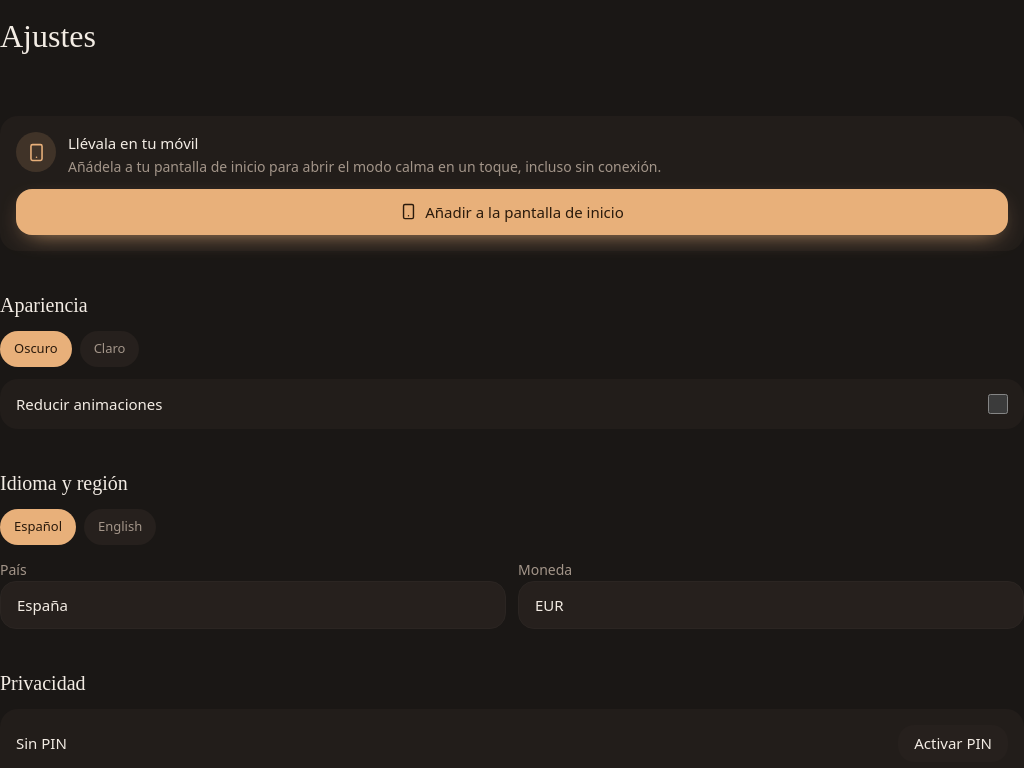
browsers without install support › tells Opera users to open the page in Chrome, Edge or on the phone
Click the button "Añadir a la pantalla de inicio". click: x=512, y=212
box: [16,188,1008,235]
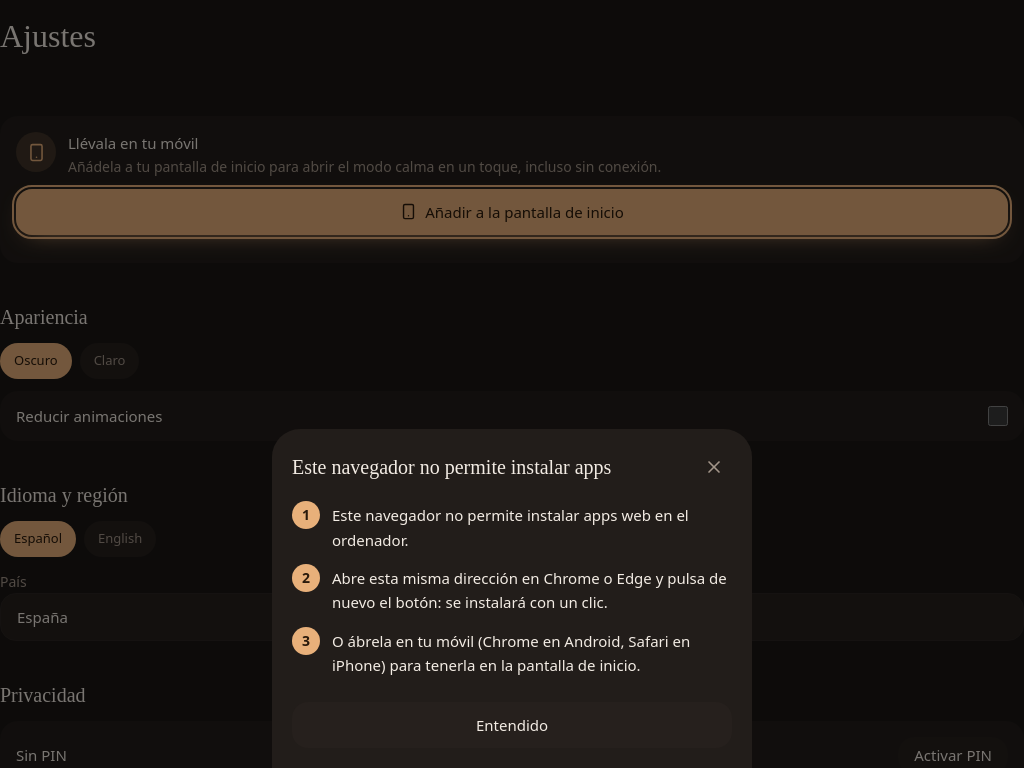
Expected: the dialog shows "Este navegador no permite instalar", [292,456,611,478]
